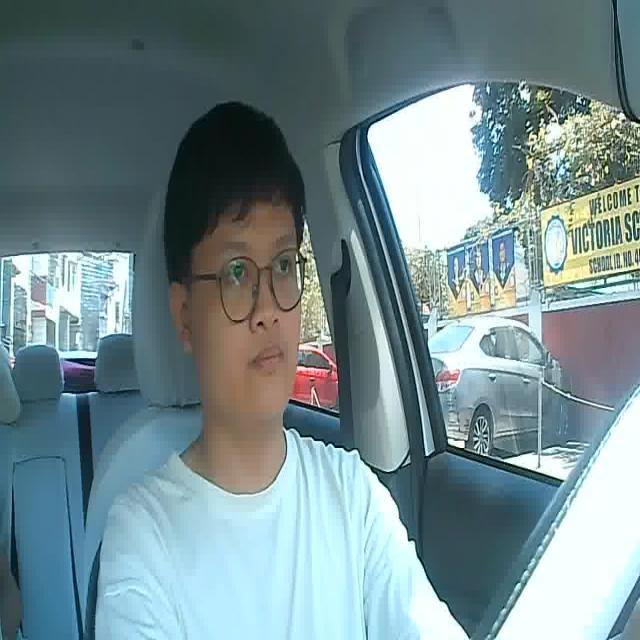Attentive: (160, 101, 308, 423)
Eye-Open: (221, 260, 254, 286), (273, 254, 296, 277)
Normal: (248, 342, 284, 378)
